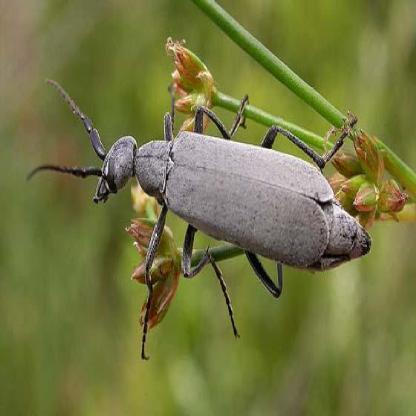beetle: (46, 81, 381, 304)
